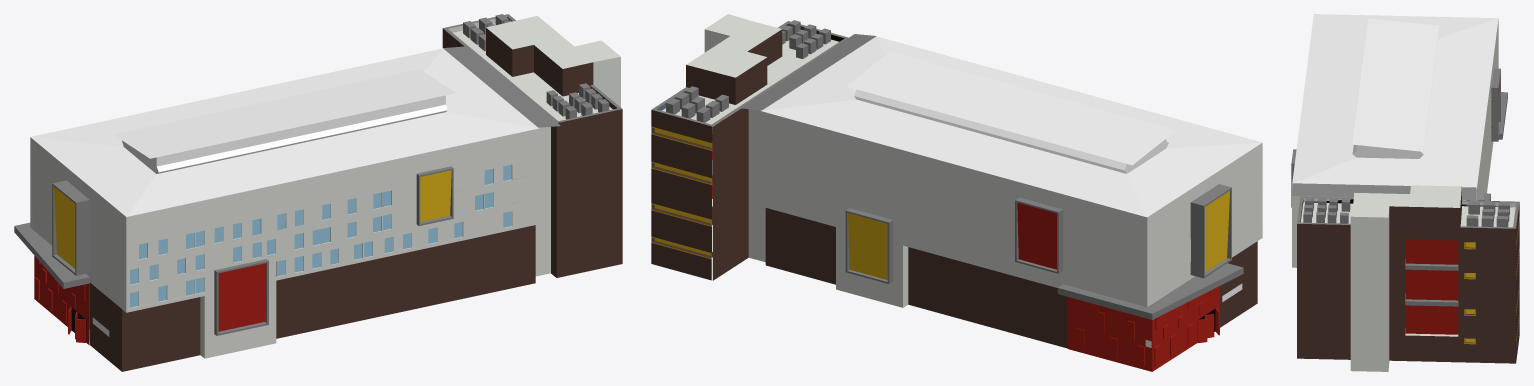
File: Bloque 9 LOD1.fbx
The picture shows the model from 3 angles, left to right: view 1: azimuth 30°, elevation 25°; view 2: azimuth 150°, elevation 25°; view 3: azimuth 270°, elevation 25°; orthographic projection. The views are drawn at different scales.
Visible parts, largest first — view 1: Bloque9_LOD1; view 2: Bloque9_LOD1; view 3: Bloque9_LOD1.
Boxes of the visible parts, bbox=[...] form: Bloque9_LOD1: bbox=[14, 14, 622, 371]; Bloque9_LOD1: bbox=[651, 14, 1262, 371]; Bloque9_LOD1: bbox=[1291, 14, 1519, 371].
Size of the model in its own units: 7367 by 2352 by 3097.
